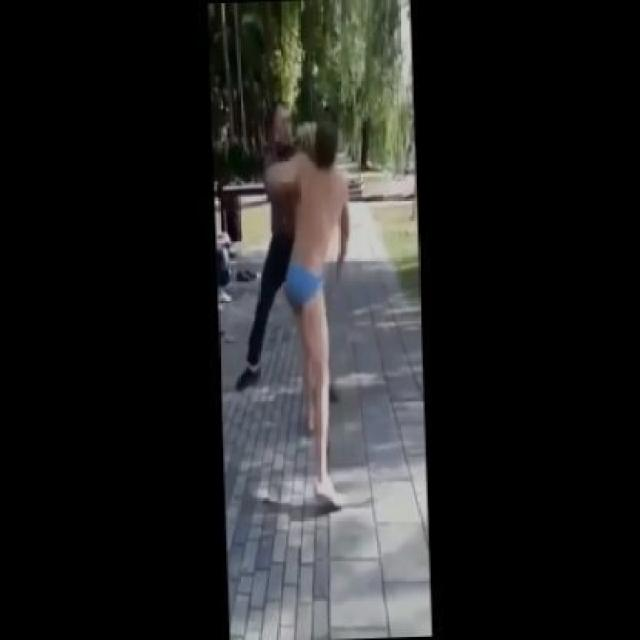fight: (209, 97, 388, 523)
